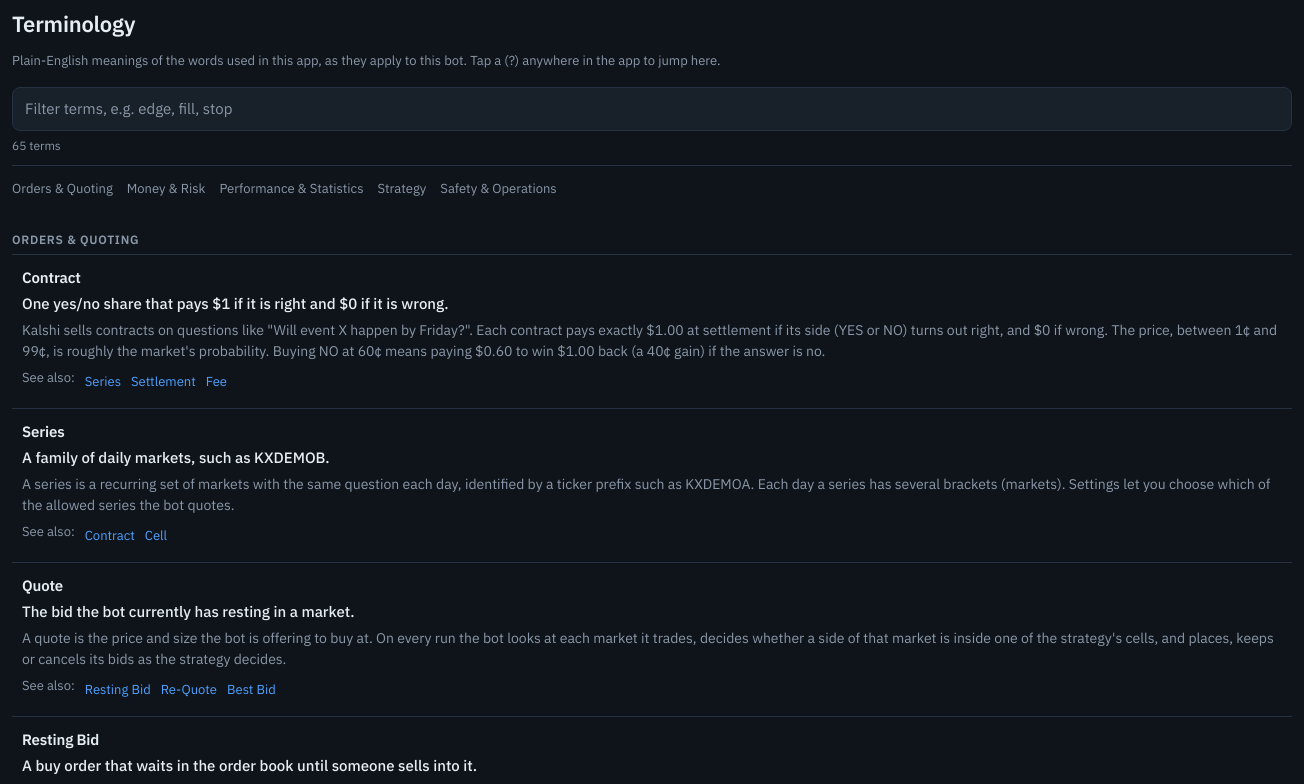
Test: Terminology search UI › labels the top result "Best Match" and highlights matched words
Step 1. Type "queue" into the search field labelled "Filter terms" → (652,109), box [12, 87, 1292, 131]
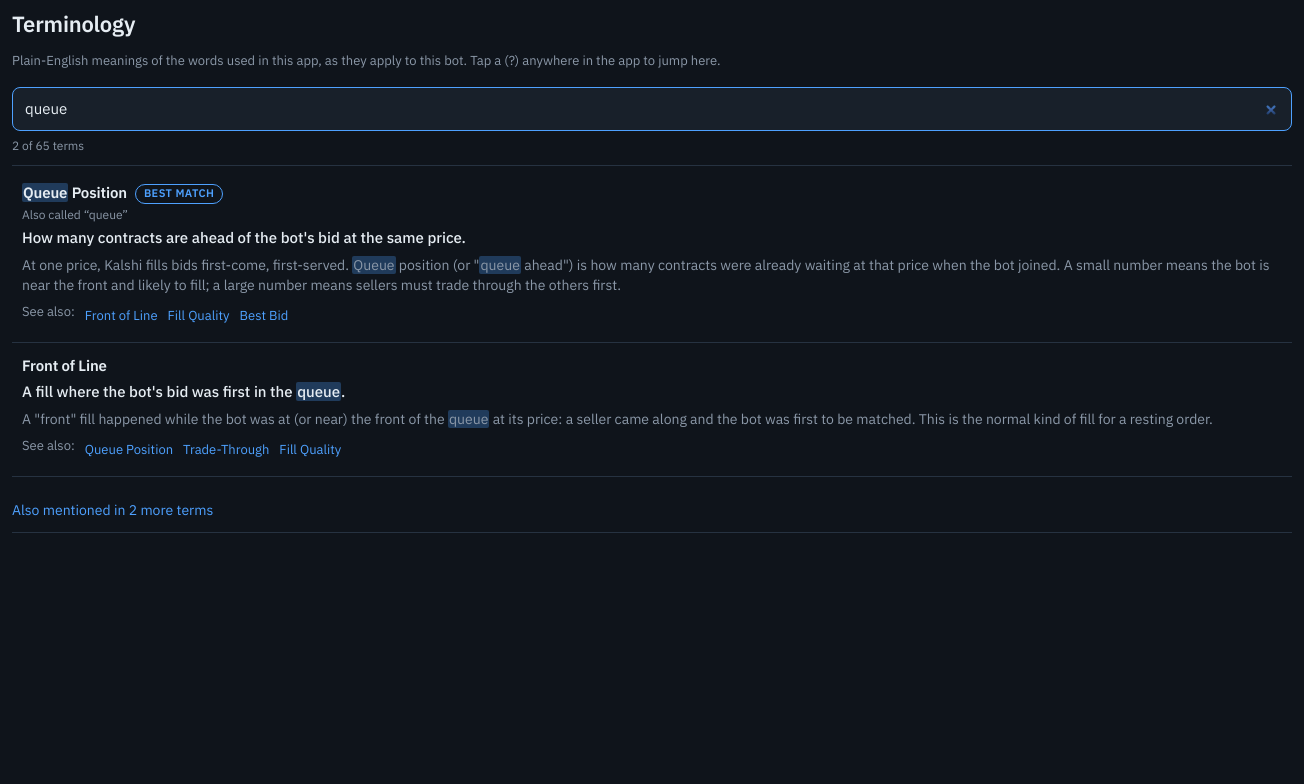
Expected: the text "Queue" in the row of "Best Match" is shown, [22, 183, 68, 202]
Result: the number of elements with class "term-best" is 1 at [135, 184, 223, 204]
